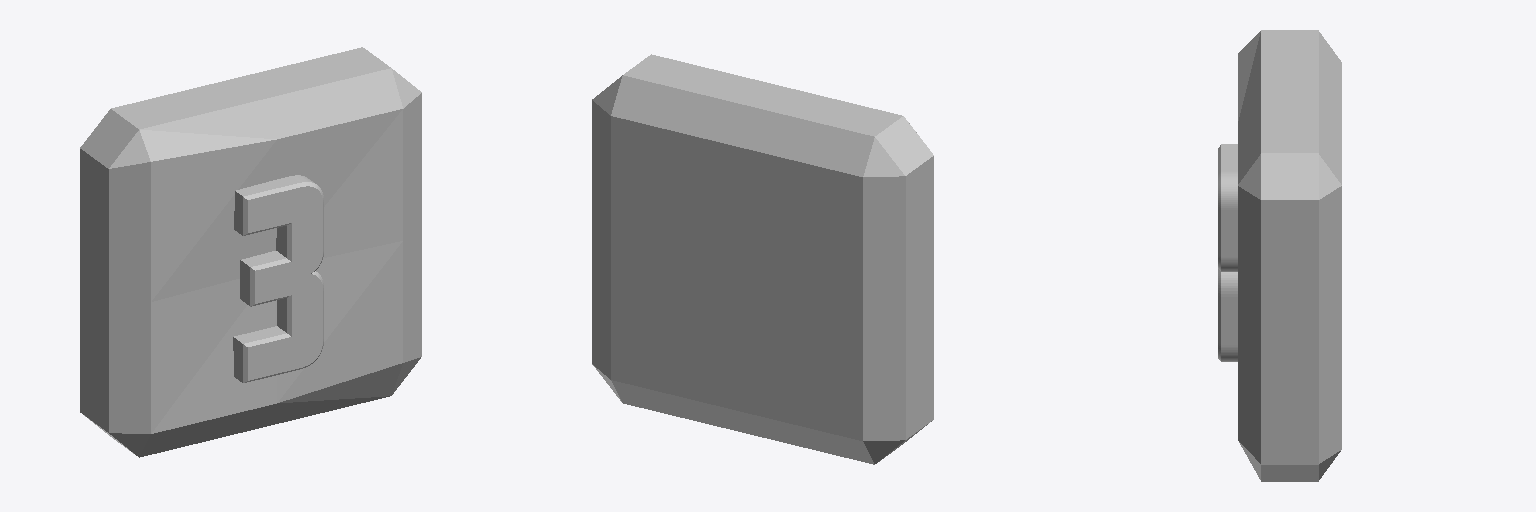
File: Lvl-3.obj
The picture shows the model from 3 angles: view 1: azimuth 30°, elevation 25°; view 2: azimuth 150°, elevation 25°; view 3: azimuth 270°, elevation 25°; orthographic projection.
Visible parts, largest first — view 1: lvl-3_Cube.012; view 2: lvl-3_Cube.012; view 3: lvl-3_Cube.012.
Part boxes in pixels (bbox=[...]): lvl-3_Cube.012: bbox=[80, 47, 421, 457]; lvl-3_Cube.012: bbox=[592, 54, 933, 464]; lvl-3_Cube.012: bbox=[1218, 30, 1341, 481].
Size of the model in its own units: 1.28 by 1.28 by 0.4393.